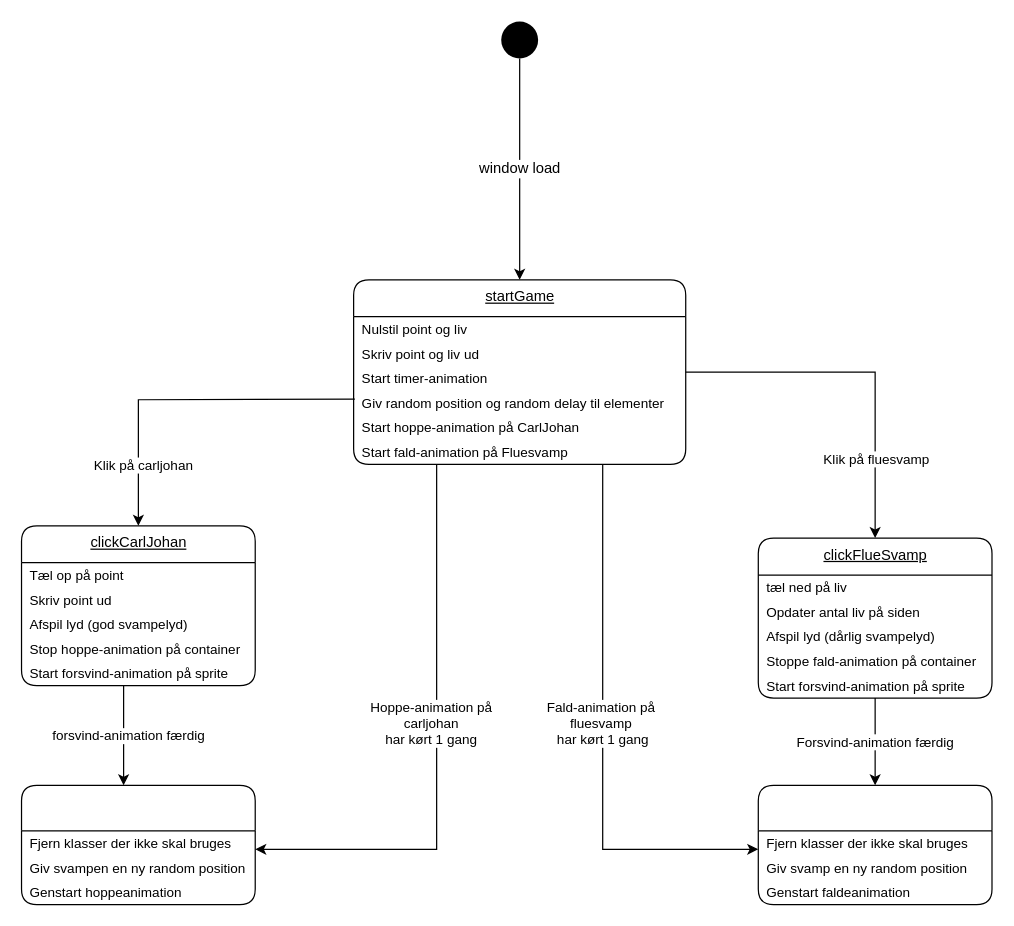
Image size: 1014x926. Some labels were removed from this diagram. Each missing label, with the box of its shape:
resetCarlJohan: (20, 784, 255, 905)
resetFlueSvamp: (757, 784, 992, 905)
